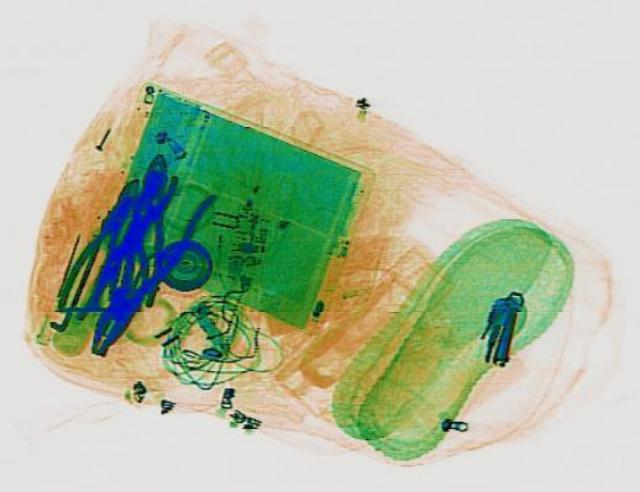Pliers: (68, 174, 220, 360), (98, 148, 184, 304)
